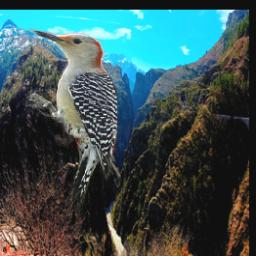Woodpecker: (25, 25, 118, 211)
